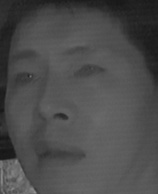eye: (71, 62, 107, 83), (11, 69, 37, 86)
mouth: (31, 136, 86, 172)
